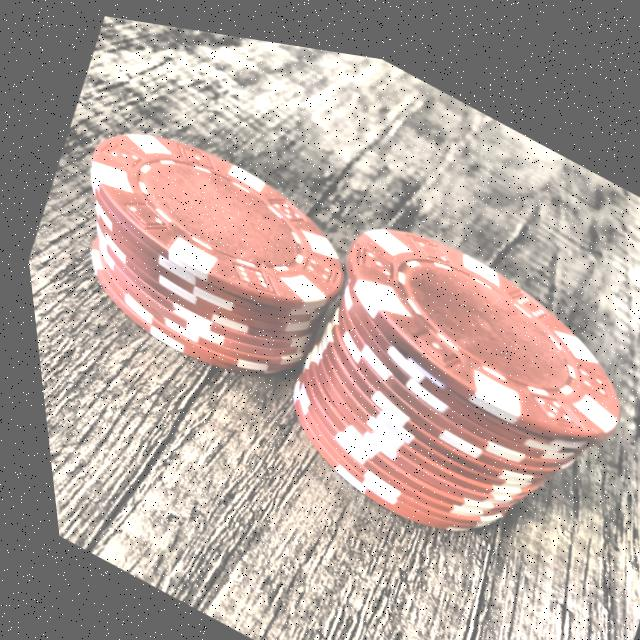Chip: (237, 165, 640, 607), (24, 81, 376, 422)
